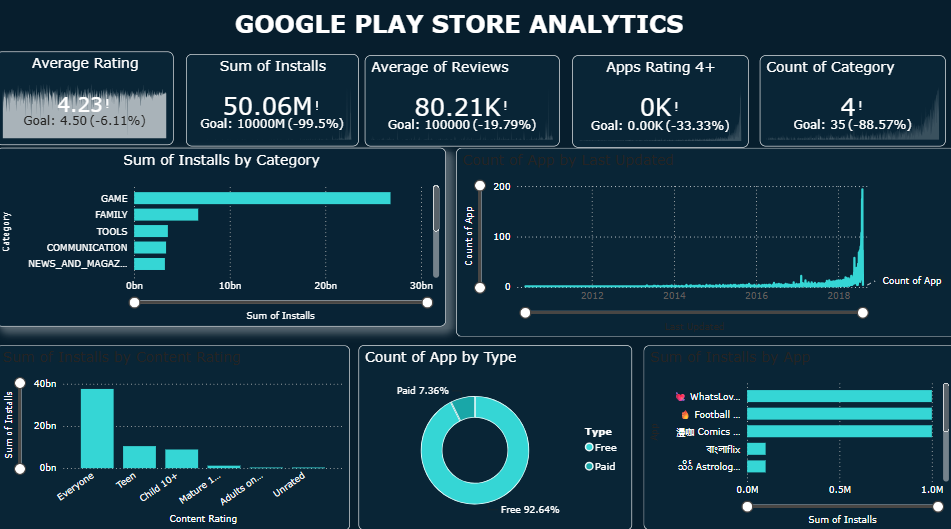

The page's visual inventory and layout, read from the dashboard file:
{"tool":"powerbi","page":{"name":"Page 1","canvas":[1280,720],"ordinal":0},"visuals":[{"type":"clusteredBarChart","fields":{"Category":["googleplaystore_fully_cleaned.Category"],"Y":["Sum(googleplaystore_fully_cleaned.Installs)"]},"box":[0,164.4,704.1,275.3],"z":0},{"type":"scatterChart","fields":{"X":["Sum(googleplaystore_fully_cleaned.Installs)"],"Y":["Avg(googleplaystore_fully_cleaned.Reviews)"],"Series":["googleplaystore_fully_cleaned.Category"]},"box":[704.1,164.4,576.2,275],"z":1000},{"type":"donutChart","fields":{"Category":["googleplaystore_fully_cleaned.Type"],"Y":["CountNonNull(googleplaystore_fully_cleaned.App)"]},"box":[460.3,439.7,374.2,280],"z":2000},{"type":"clusteredColumnChart","fields":{"Category":["googleplaystore_fully_cleaned.Content Rating"],"Y":["Sum(googleplaystore_fully_cleaned.Installs)"]},"box":[0,440.2,459.8,280],"z":3000},{"type":"textbox","box":[371.7,8.6,672.6,44],"z":9000},{"type":"clusteredBarChart","fields":{"Category":["googleplaystore_fully_cleaned.App"],"Y":["Sum(googleplaystore_fully_cleaned.Installs)"]},"box":[834.2,439.7,446.2,280],"z":10000},{"type":"cardVisual","fields":{"Data":["googleplaystore_fully_cleaned.Average Rating"]},"box":[316.7,52.6,177.3,113.7],"z":10001},{"type":"cardVisual","fields":{"Data":["Sum(googleplaystore_fully_cleaned.Installs)"]},"box":[467.1,53.8,172.4,112.5],"z":10002},{"type":"cardVisual","fields":{"Data":["Avg(googleplaystore_fully_cleaned.Reviews)"]},"box":[611.4,53.8,196.9,113.7],"z":10003},{"type":"cardVisual","fields":{"Data":["googleplaystore_fully_cleaned.Apps Rating 4+"]},"box":[785.1,52.6,183.4,111.3],"z":10004},{"type":"cardVisual","fields":{"Data":["CountNonNull(googleplaystore_fully_cleaned.Category)"]},"box":[933,53.8,189.5,111.3],"z":10005}]}

Visuals, with their boxes in screenshot pixels (x1, y1, x2, y2), scaled from the page's 1280x720 canvas onto the 951x529 screenshot:
clusteredBarChart - googleplaystore_fully_cleaned.Category x Sum(googleplaystore_fully_cleaned.Installs): [0,121,523,323]
scatterChart - Sum(googleplaystore_fully_cleaned.Installs) x Avg(googleplaystore_fully_cleaned.Reviews): [523,121,950,323]
donutChart - googleplaystore_fully_cleaned.Type x CountNonNull(googleplaystore_fully_cleaned.App): [342,323,620,528]
clusteredColumnChart - googleplaystore_fully_cleaned.Content Rating x Sum(googleplaystore_fully_cleaned.Installs): [0,323,342,528]
textbox: [276,6,776,39]
clusteredBarChart - googleplaystore_fully_cleaned.App x Sum(googleplaystore_fully_cleaned.Installs): [620,323,950,528]
cardVisual - googleplaystore_fully_cleaned.Average Rating: [235,39,367,122]
cardVisual - Sum(googleplaystore_fully_cleaned.Installs): [347,40,475,122]
cardVisual - Avg(googleplaystore_fully_cleaned.Reviews): [454,40,601,123]
cardVisual - googleplaystore_fully_cleaned.Apps Rating 4+: [583,39,720,120]
cardVisual - CountNonNull(googleplaystore_fully_cleaned.Category): [693,40,834,121]
